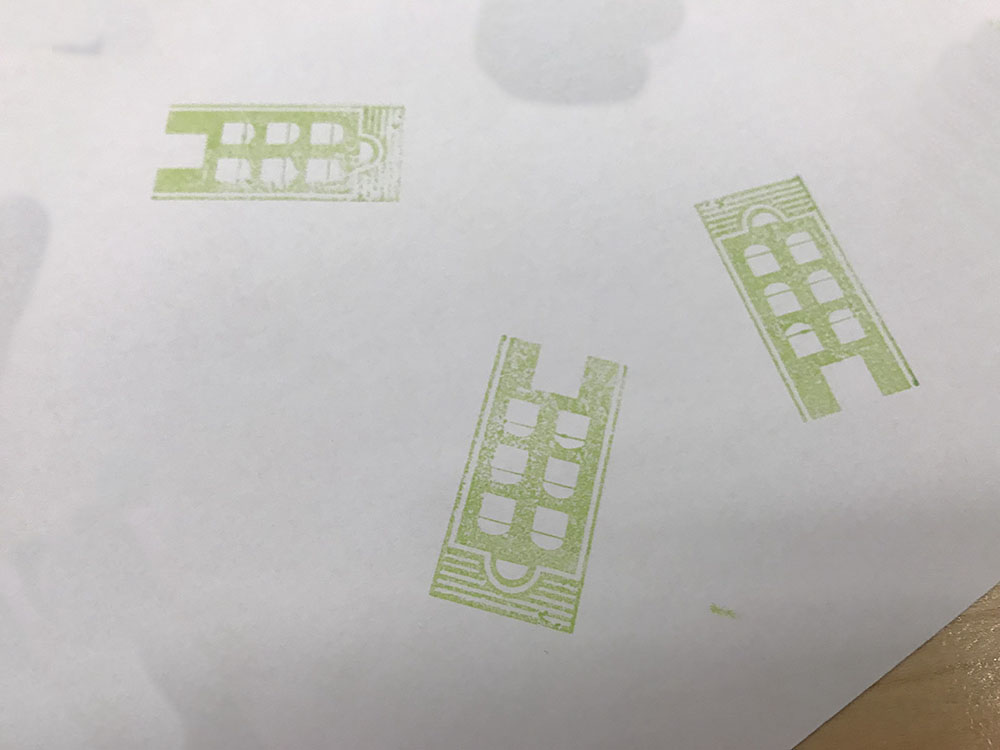build: (683, 170, 948, 443), (426, 321, 637, 653), (113, 92, 432, 221)
